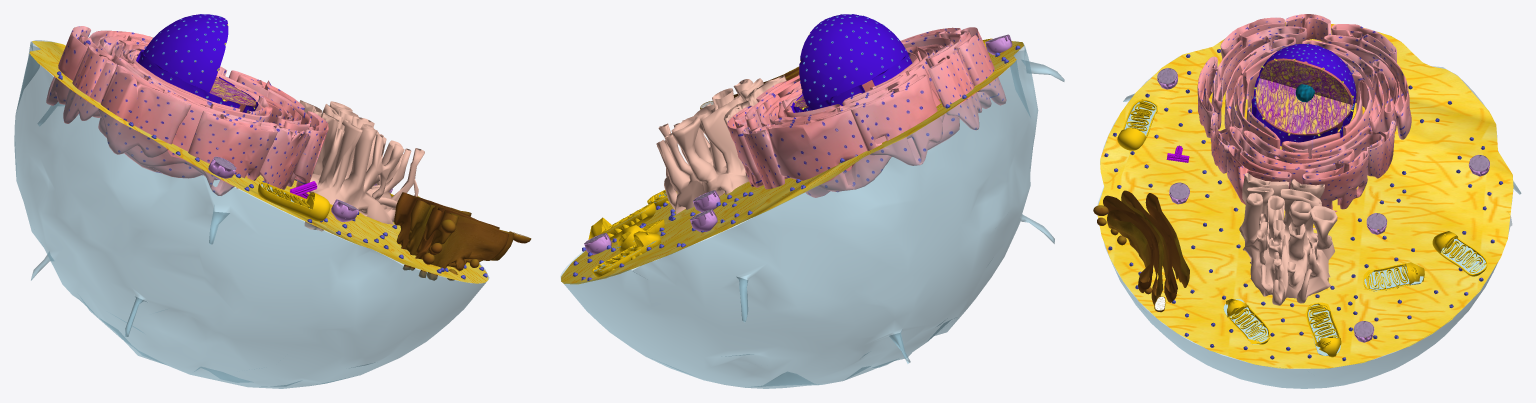
File: modelo.glb
The picture shows the model from 3 angles, left to right: view 1: azimuth 30°, elevation 25°; view 2: azimuth 150°, elevation 25°; view 3: azimuth 270°, elevation 25°; orthographic projection. The views are drawn at different scales.
Visible parts, largest first — view 1: Object_2, Object_7, Object_115, Object_21, Object_3, Object_127, Object_31, Object_129, Object_28, Object_49; view 2: Object_2, Object_7, Object_3, Object_115, Object_127, Object_31, Object_129, Object_49, Object_40, Object_134; view 3: Object_3, Object_7, Object_115, Object_2, Object_21, Object_28, Object_31, Object_29, Object_40, Object_127, Object_49, Object_131 (+2 smaller).
Boxes of the visible parts, <box> form: Object_2: <box>14,40,488,388</box>; Object_7: <box>46,26,328,195</box>; Object_115: <box>294,100,424,231</box>; Object_21: <box>394,192,531,280</box>; Object_3: <box>29,41,488,283</box>; Object_127: <box>136,14,258,112</box>; Object_31: <box>258,182,419,221</box>; Object_129: <box>208,156,392,221</box>; Object_28: <box>210,78,255,105</box>; Object_49: <box>57,71,487,279</box>; Object_2: <box>560,43,1064,388</box>; Object_7: <box>727,27,1006,197</box>; Object_3: <box>561,41,1023,284</box>; Object_115: <box>656,75,786,214</box>; Object_127: <box>791,14,912,112</box>; Object_31: <box>588,38,992,277</box>; Object_129: <box>584,34,1012,255</box>; Object_49: <box>573,45,1020,280</box>; Object_40: <box>594,40,988,270</box>; Object_134: <box>803,14,906,103</box>; Object_3: <box>1097,22,1513,368</box>; Object_7: <box>1197,14,1411,211</box>; Object_115: <box>1239,173,1337,305</box>; Object_2: <box>1098,57,1521,388</box>; Object_21: <box>1093,190,1189,312</box>; Object_28: <box>1256,60,1352,133</box>; Object_31: <box>1117,99,1487,357</box>; Object_29: <box>1124,101,1486,355</box>; Object_40: <box>1126,100,1485,342</box>; Object_127: <box>1251,43,1356,146</box>; Object_49: <box>1104,49,1502,360</box>; Object_131: <box>1157,68,1489,337</box>.
Size of what is drawn, in the model's own units: 8.07 by 6.9 by 9.15.
Materials: 19 (6 with a texture image).
